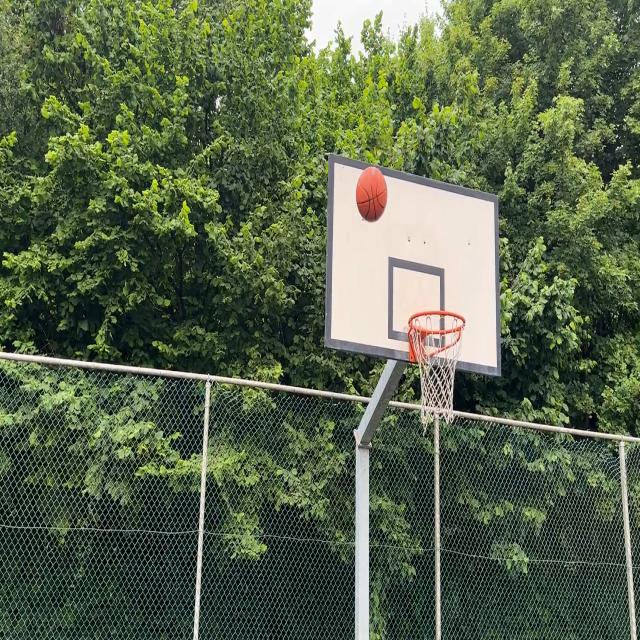Basketball: (356, 165, 387, 221)
